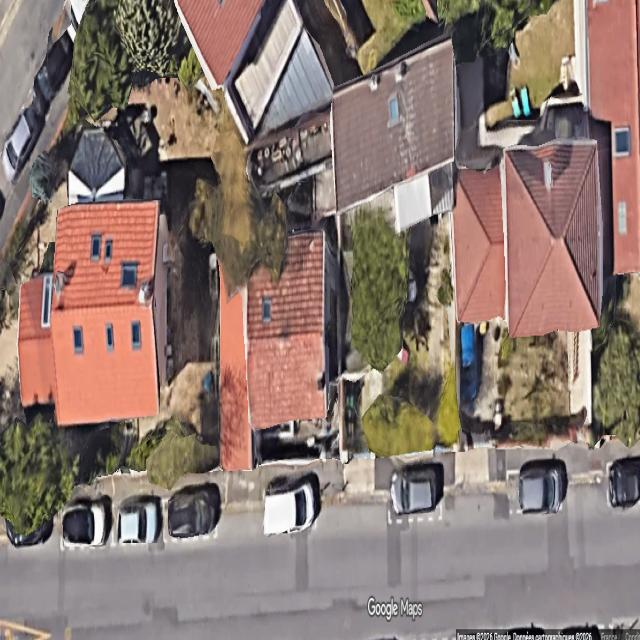maison: (19, 200, 167, 425), (323, 37, 468, 235), (499, 137, 603, 336), (245, 231, 337, 428), (175, 0, 263, 87), (452, 222, 500, 321), (460, 170, 510, 241)
